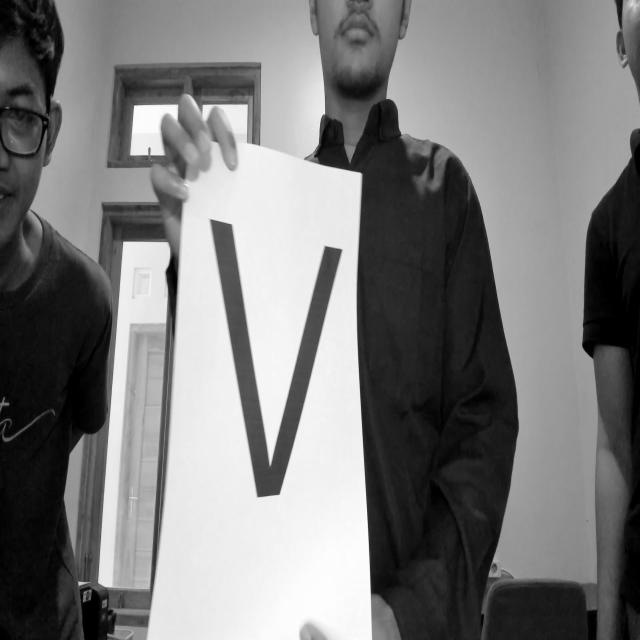v: (204, 207, 364, 518)
